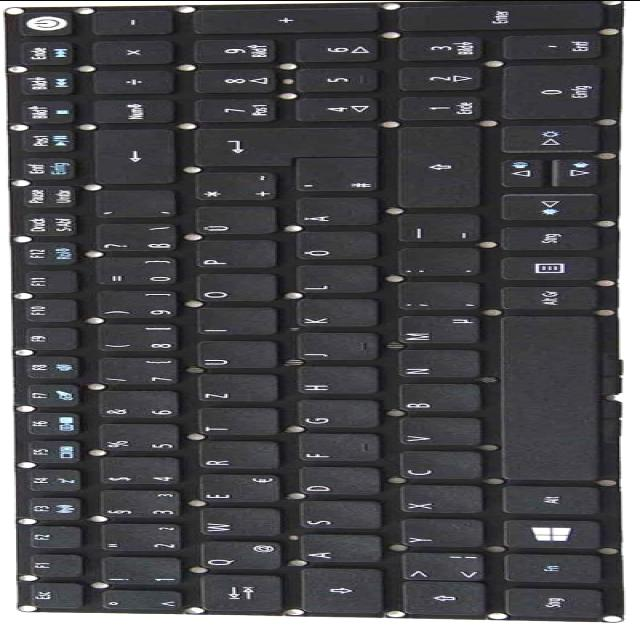0: (90, 257, 181, 287)
1: (96, 556, 184, 586)
2: (96, 522, 184, 552)
3: (95, 489, 183, 520)
4: (95, 456, 183, 486)
5: (95, 423, 181, 453)
6: (92, 390, 183, 420)
7: (91, 356, 184, 386)
8: (93, 324, 183, 353)
9: (91, 290, 179, 320)
a: (295, 534, 383, 564)
accent: (90, 189, 180, 219)
ae: (291, 197, 379, 227)
alt-left: (498, 486, 602, 516)
altgr-right: (496, 286, 600, 311)
b: (394, 383, 482, 413)
c: (395, 450, 483, 480)
caret: (96, 590, 186, 612)
comma: (394, 281, 482, 311)
d: (295, 466, 381, 496)
del: (88, 129, 174, 185)
e: (194, 473, 284, 503)
enter: (192, 127, 379, 167)
f: (293, 433, 381, 463)
g: (293, 399, 379, 429)
h: (293, 365, 379, 395)
hash: (290, 159, 380, 193)
i: (192, 307, 278, 337)
j: (291, 332, 379, 362)
k: (290, 298, 381, 328)
keyboard: (4, 0, 623, 622)
l: (291, 265, 379, 295)
less: (397, 552, 487, 581)
m: (394, 315, 482, 345)
minus: (394, 213, 482, 243)
n: (394, 349, 482, 379)
o: (192, 273, 278, 303)
oe: (291, 231, 379, 261)
p: (190, 239, 280, 269)
plus: (189, 172, 280, 202)
point: (394, 247, 480, 277)
q: (197, 541, 285, 571)
r: (192, 440, 283, 471)
s: (294, 500, 384, 530)
shift-left: (400, 582, 486, 617)
shift-lock: (298, 568, 383, 616)
shift-right: (392, 126, 478, 208)
space: (496, 316, 605, 482)
ss: (91, 223, 181, 253)
strg-left: (501, 588, 605, 619)
strg-right: (496, 226, 602, 252)
t: (194, 406, 280, 436)
tab: (195, 574, 283, 613)
u: (192, 340, 278, 370)
ue: (189, 205, 280, 235)
v: (394, 416, 482, 446)
w: (194, 506, 285, 538)
x: (395, 485, 483, 515)
y: (397, 518, 485, 548)
z: (194, 374, 280, 403)
